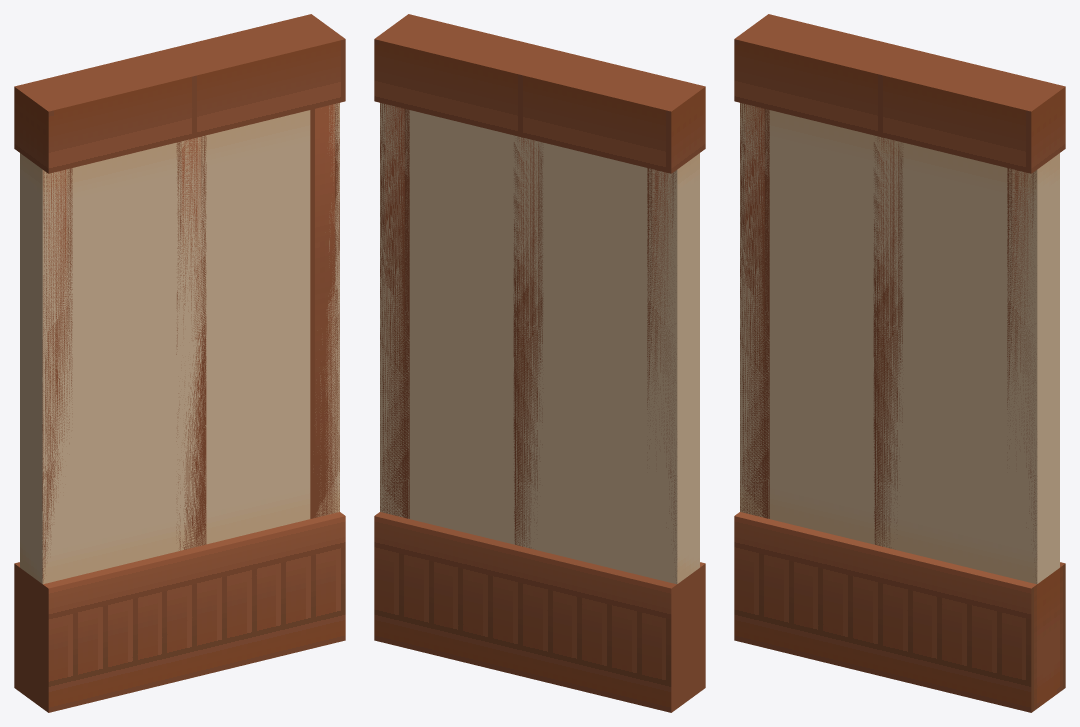
The model's file is PanelWall.gltf.
The picture shows the model from 3 angles, left to right: view 1: azimuth 30°, elevation 25°; view 2: azimuth 150°, elevation 25°; view 3: azimuth 330°, elevation 25°; orthographic projection.
Parts seen in each view (by area): view 1: cube (×6); view 2: cube (×6); view 3: cube (×6).
Boxes of the visible parts, box(x1,y1,x2,y2) form: cube (×6): box(14, 14, 345, 712); cube (×6): box(374, 14, 705, 712); cube (×6): box(734, 14, 1065, 712).
Bounding box in the file's own units: 3.75 × 7.25 × 0.75.
8 materials, 8 textured.
